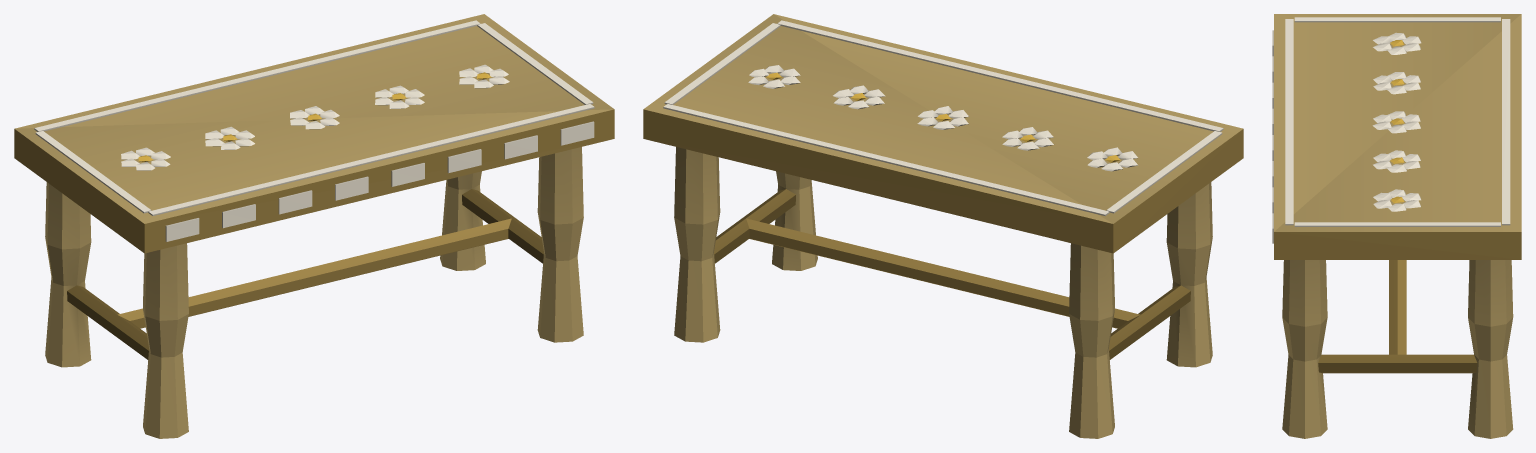
3 renders of one model, left to right at view 1: azimuth 30°, elevation 25°; view 2: azimuth 150°, elevation 25°; view 3: azimuth 270°, elevation 25°, orthographic. The views are drawn at different scales.
Parts seen in each view (by area): view 1: base; view 2: base; view 3: base.
Boxes of the visible parts, <box> form: base: <box>14,14,614,438</box>; base: <box>643,14,1243,438</box>; base: <box>1272,14,1521,438</box>.
Bounding box in the file's own units: 0.5 × 0.2333 × 0.2415.
